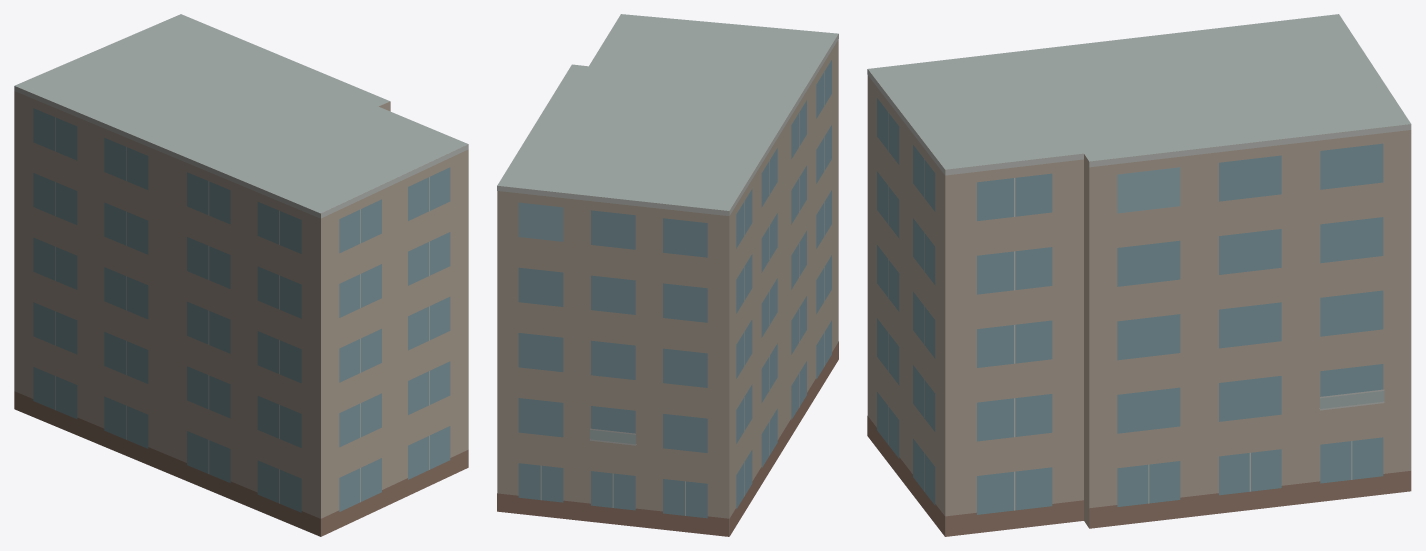
Rendered from survey-upis-32613543.glb.
3 renders of one model, left to right at view 1: azimuth 30°, elevation 25°; view 2: azimuth 150°, elevation 25°; view 3: azimuth 270°, elevation 25°, orthographic. The views are drawn at different scales.
Visible parts, largest first — view 1: survey-upis-32613543.tmp; view 2: survey-upis-32613543.tmp; view 3: survey-upis-32613543.tmp.
Part boxes in pixels (box(x1,y1,x2,y2)): survey-upis-32613543.tmp: box(14, 14, 468, 536); survey-upis-32613543.tmp: box(497, 14, 838, 536); survey-upis-32613543.tmp: box(867, 14, 1411, 536).
Bounding box in the file's own units: 14.11 × 15.5 × 20.81.
